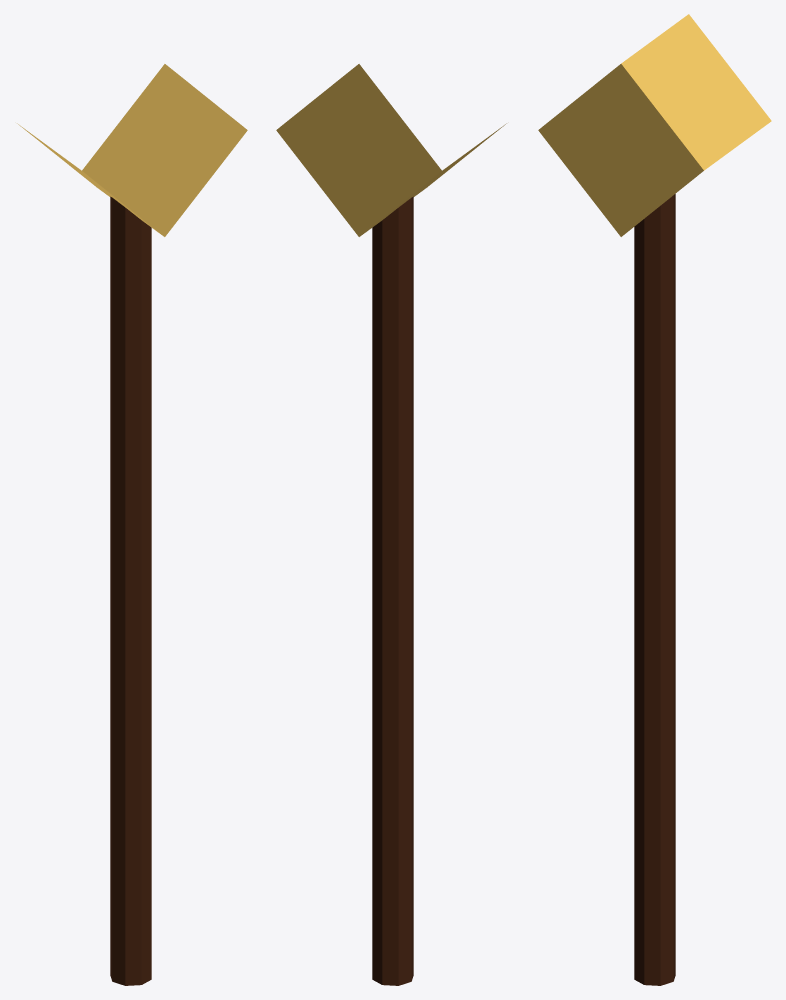
The model's file is shadow-shaman.glb.
3 views of the same model, side by side, from view 1: azimuth 30°, elevation 25°; view 2: azimuth 150°, elevation 25°; view 3: azimuth 330°, elevation 25° (orthographic).
Visible parts, largest first — view 1: shadow-shaman-shaft, shadow-shaman-head-gem; view 2: shadow-shaman-shaft, shadow-shaman-head-gem; view 3: shadow-shaman-shaft, shadow-shaman-head-gem.
Part boxes in pixels (box(x1,y1,x2,y2)): shadow-shaman-shaft: box(110, 196, 151, 985); shadow-shaman-head-gem: box(17, 64, 247, 236); shadow-shaman-shaft: box(372, 196, 413, 985); shadow-shaman-head-gem: box(276, 64, 506, 236); shadow-shaman-shaft: box(634, 194, 675, 985); shadow-shaman-head-gem: box(538, 14, 771, 236).
Size of the model in its own units: 0.3111 by 1.68 by 0.22.
